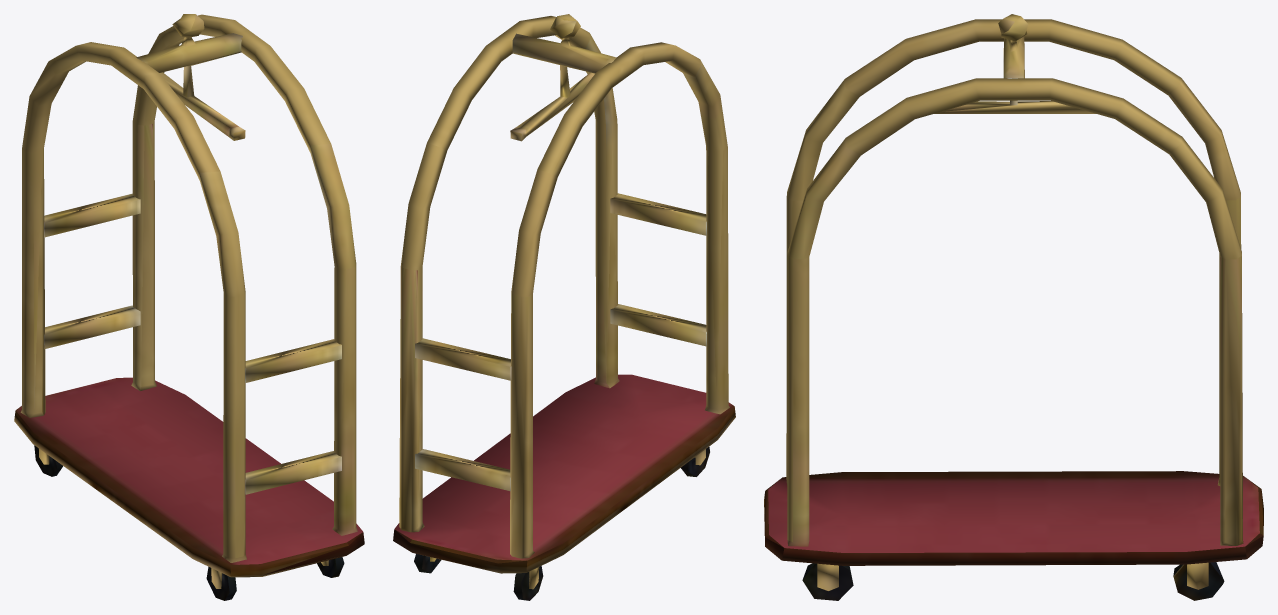
File: TrollyWatlas.fbx
3 renders of one model, left to right at view 1: azimuth 30°, elevation 25°; view 2: azimuth 150°, elevation 25°; view 3: azimuth 270°, elevation 25°, orthographic. The views are drawn at different scales.
Parts seen in each view (by area): view 1: Trolly; view 2: Trolly; view 3: Trolly.
Part boxes in pixels (x1,y1,x2,y2): Trolly: (14,14,364,600); Trolly: (393,14,735,600); Trolly: (764,14,1263,600).
Size of the model in its own units: 70 by 220 by 180.
1 material, 1 textured.
